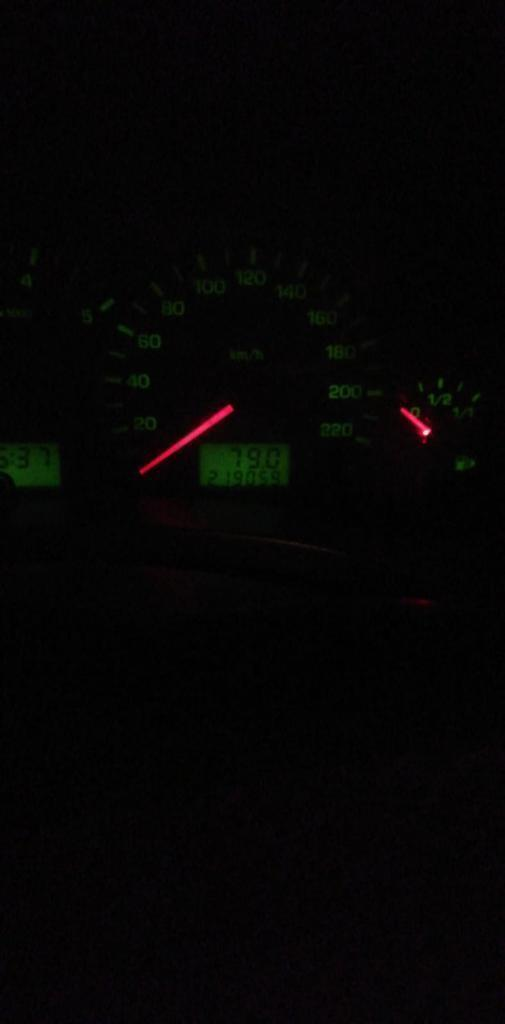,: (260, 464, 264, 469)
0: (264, 446, 280, 469), (245, 469, 255, 485)
1: (224, 470, 231, 485)
2: (206, 469, 219, 485)
5: (257, 470, 268, 486)
7: (230, 446, 242, 467)
9: (245, 446, 260, 469), (232, 469, 243, 485), (270, 469, 281, 485)
odometer: (195, 438, 293, 492)
